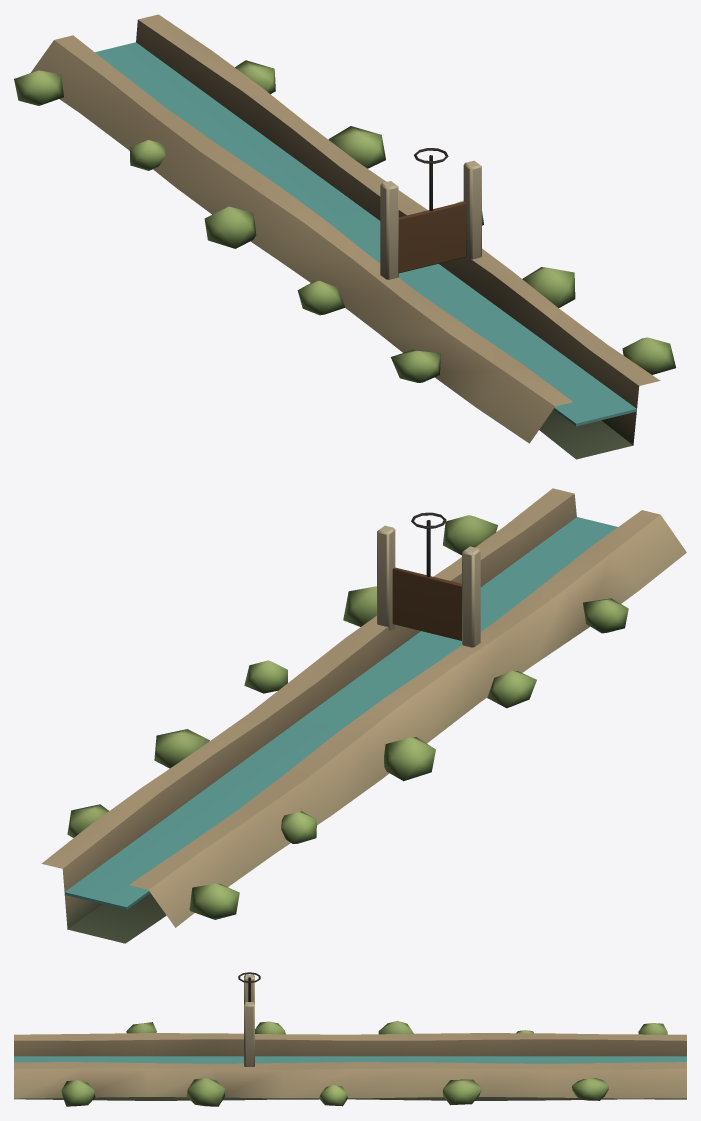
Rendered from acequia.glb.
The picture shows the model from 3 angles, top to bottom: view 1: azimuth 30°, elevation 25°; view 2: azimuth 150°, elevation 25°; view 3: azimuth 270°, elevation 25°; orthographic projection. The views are drawn at different scales.
Visible parts, largest first — view 1: acequia_mesh; view 2: acequia_mesh; view 3: acequia_mesh.
Boxes of the visible parts, x1=… form: acequia_mesh: x1=14, y1=14, x2=675, y2=459; acequia_mesh: x1=41, y1=488, x2=686, y2=943; acequia_mesh: x1=14, y1=972, x2=686, y2=1106.
Size of the model in its own units: 2.61 by 1.86 by 10.
